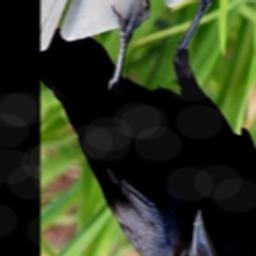Crow: (41, 0, 256, 256)
